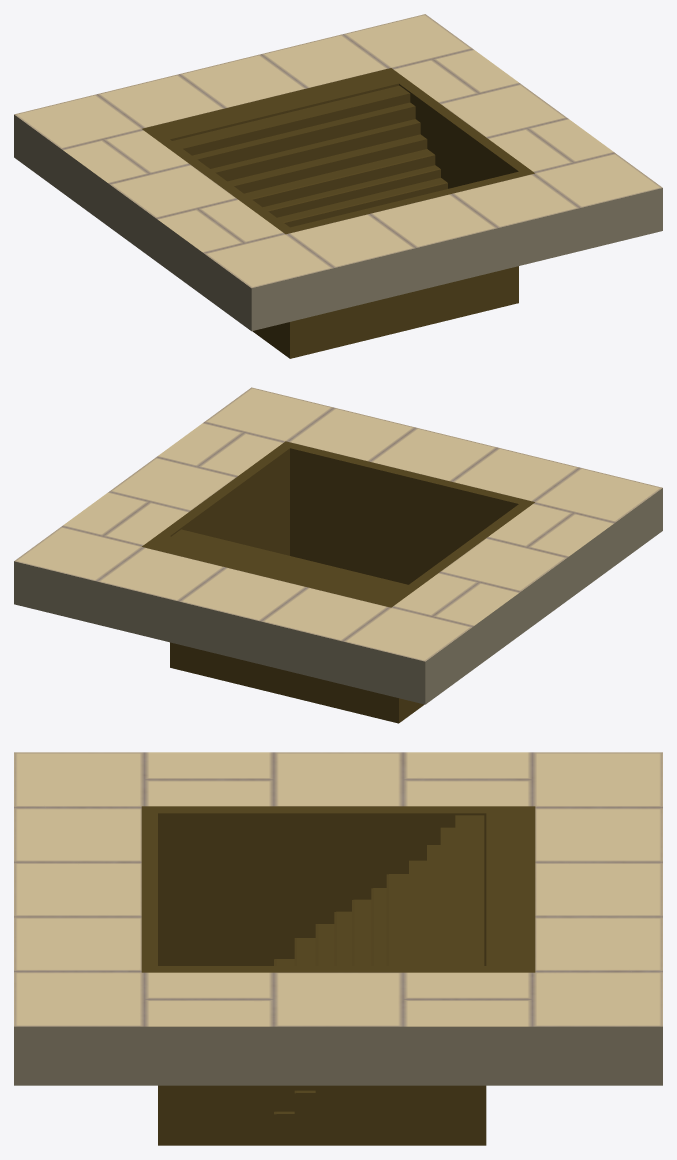
Rendered from tile0064.gltf.
The picture shows the model from 3 angles, top to bottom: view 1: azimuth 30°, elevation 25°; view 2: azimuth 150°, elevation 25°; view 3: azimuth 270°, elevation 25°; orthographic projection. The views are drawn at different scales.
Visible parts, largest first — view 1: brown; view 2: brown; view 3: brown.
Part boxes in pixels (box(x1,y1,x2,y2)): brown: box(14, 14, 662, 358); brown: box(14, 387, 662, 723); brown: box(14, 752, 662, 1145).
Bounding box in the file's own units: 2 × 0.6109 × 2.
Materials: 3 (1 with a texture image).
